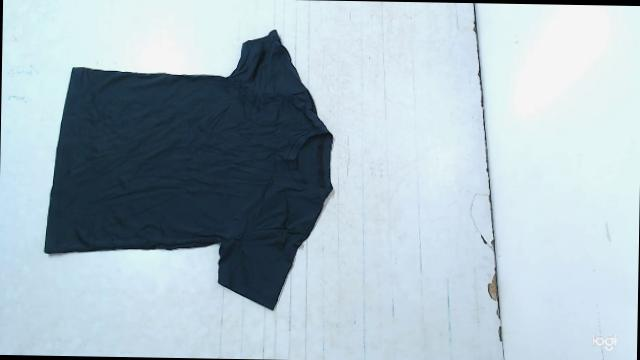new-garment: (44, 29, 332, 309)
